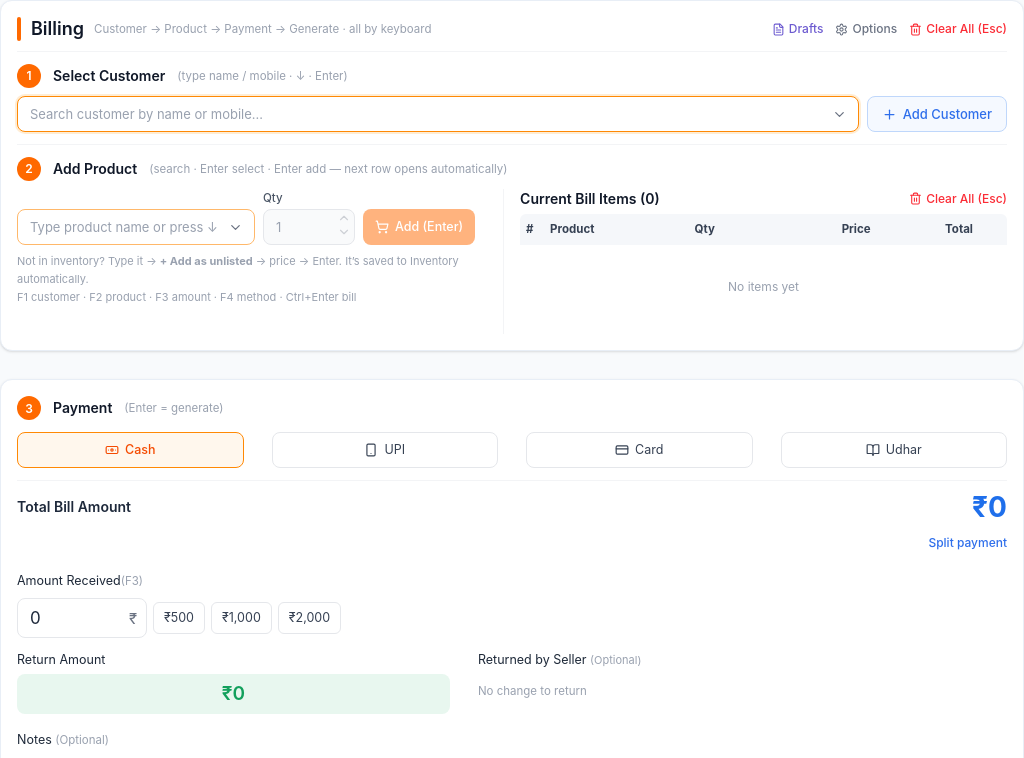
phone search — global-user suggestion › shows ONLY the name (no phone, no count) plus “Create new customer”, and never selects it by itself
Type "9876543210" into the field labelled "customer" at (438, 114), box [17,96,859,132]
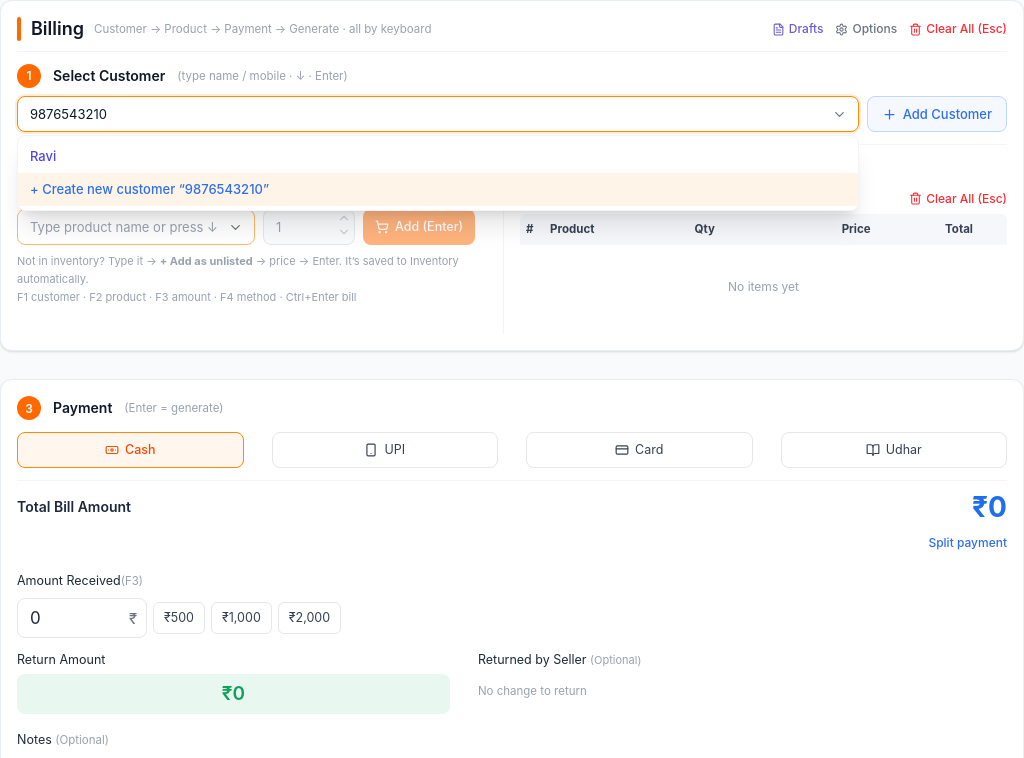
Result: the text "Ravi" is shown at [30,148,56,164]
